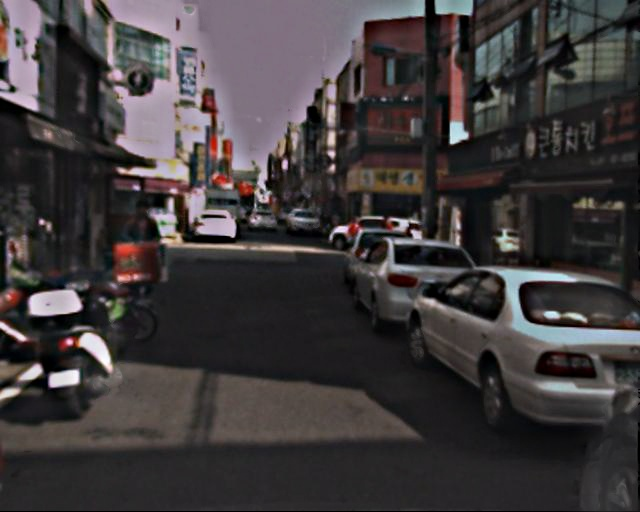person: (120, 201, 171, 309), (378, 213, 397, 259), (345, 217, 362, 258)
